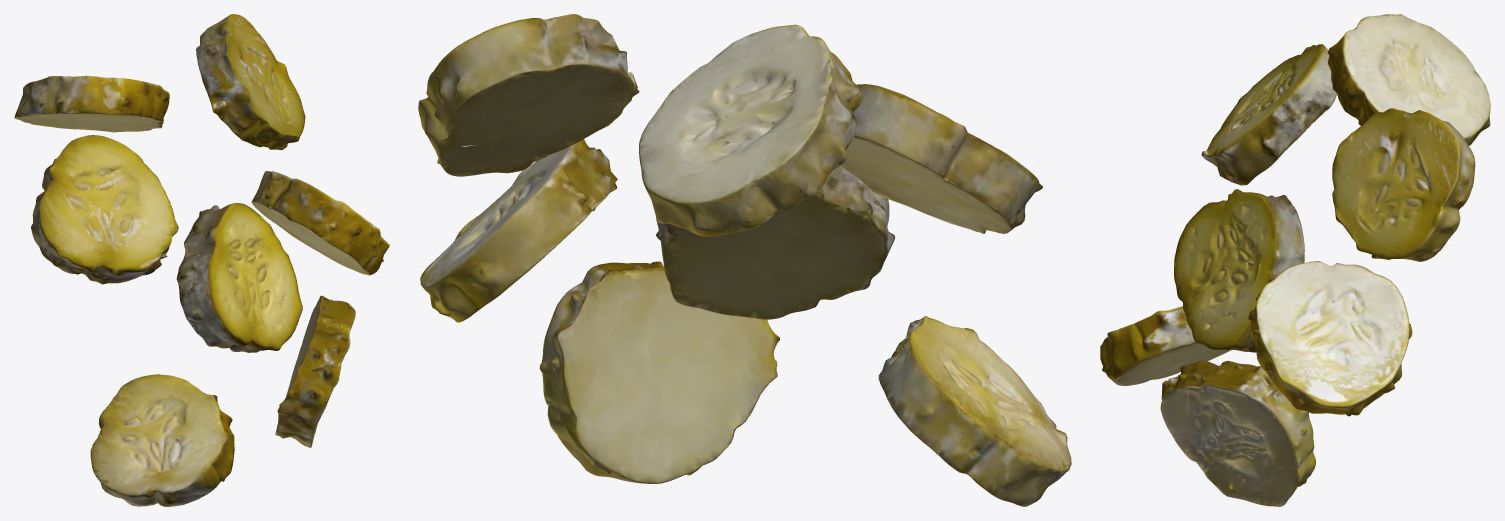
The model's file is pickles.glb.
The picture shows the model from 3 angles, left to right: view 1: azimuth 30°, elevation 25°; view 2: azimuth 150°, elevation 25°; view 3: azimuth 270°, elevation 25°; orthographic projection. The views are drawn at different scales.
Parts seen in each view (by area): view 1: geometry_0; view 2: geometry_0; view 3: geometry_0.
Part boxes in pixels (left/top/right/bottom): geometry_0: left=14, top=14, right=389, bottom=506; geometry_0: left=418, top=14, right=1071, bottom=506; geometry_0: left=1100, top=14, right=1490, bottom=506.
Bounding box in the file's own units: 0.9788 × 0.9344 × 0.8369.
Materials: 1 (1 with a texture image).
